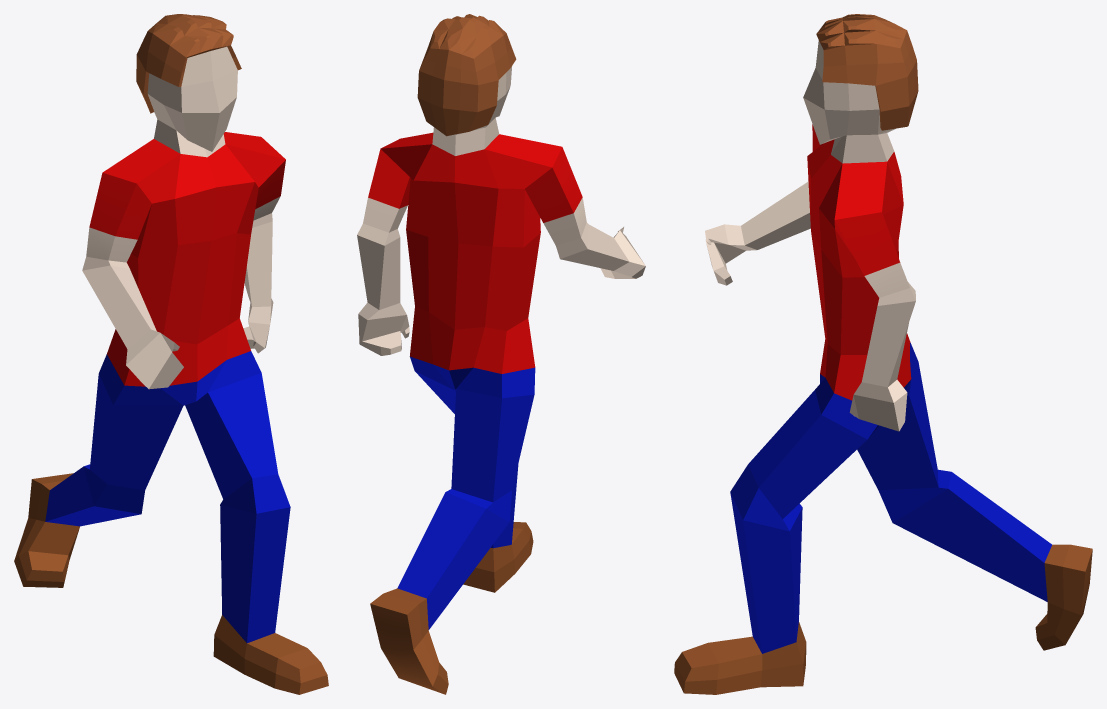
The model's file is Human_walking_12.fbx.
The picture shows the model from 3 angles, left to right: view 1: azimuth 30°, elevation 25°; view 2: azimuth 150°, elevation 25°; view 3: azimuth 270°, elevation 25°; orthographic projection. The views are drawn at different scales.
Visible parts, largest first — view 1: Person; view 2: Person; view 3: Person.
Boxes of the visible parts, x1=… form: Person: x1=14, y1=14, x2=328, y2=694; Person: x1=357, y1=14, x2=645, y2=694; Person: x1=674, y1=14, x2=1092, y2=694.
Size of the model in its own units: 0.1159 by 0.3077 by 0.1786.
